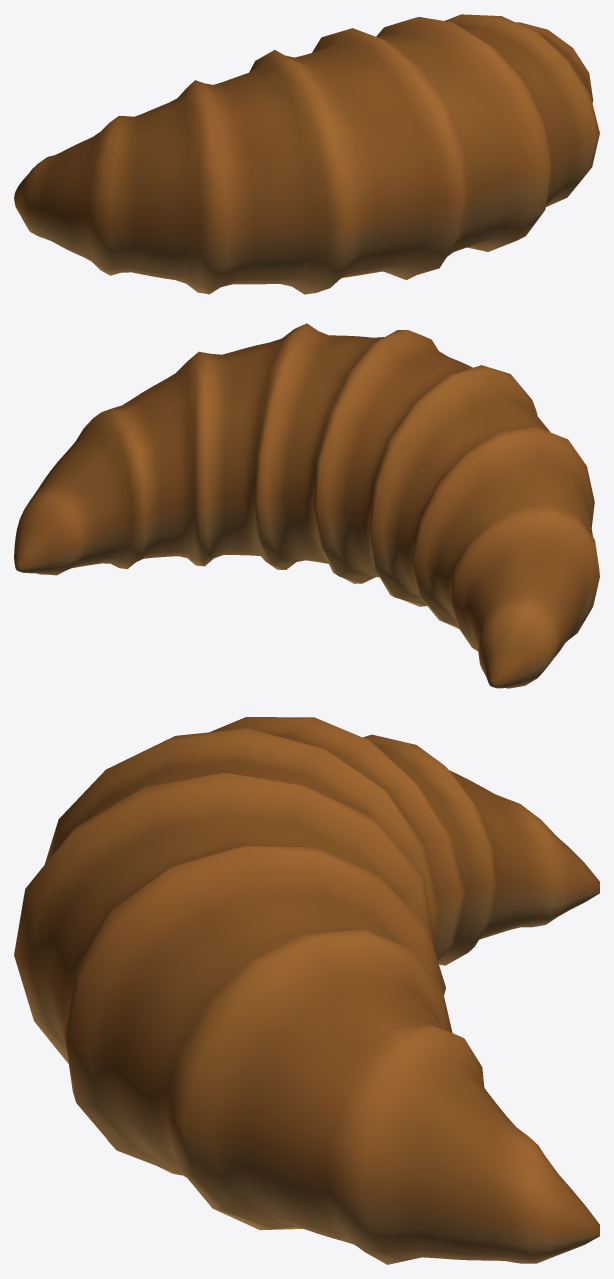
The model's file is artisan_pastry.glb.
3 views of the same model, one above another, from view 1: azimuth 30°, elevation 25°; view 2: azimuth 150°, elevation 25°; view 3: azimuth 270°, elevation 25° (orthographic). The views are drawn at different scales.
Visible parts, largest first — view 1: artisan_pastry; view 2: artisan_pastry; view 3: artisan_pastry.
Boxes of the visible parts, left/top/right/bottom form: artisan_pastry: left=14, top=14, right=599, bottom=294; artisan_pastry: left=14, top=323, right=599, bottom=688; artisan_pastry: left=14, top=717, right=599, bottom=1264.
Size of the model in its own units: 0.2 by 0.085 by 0.13.
